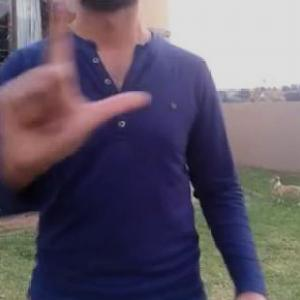land_hand: (0, 0, 161, 187)
